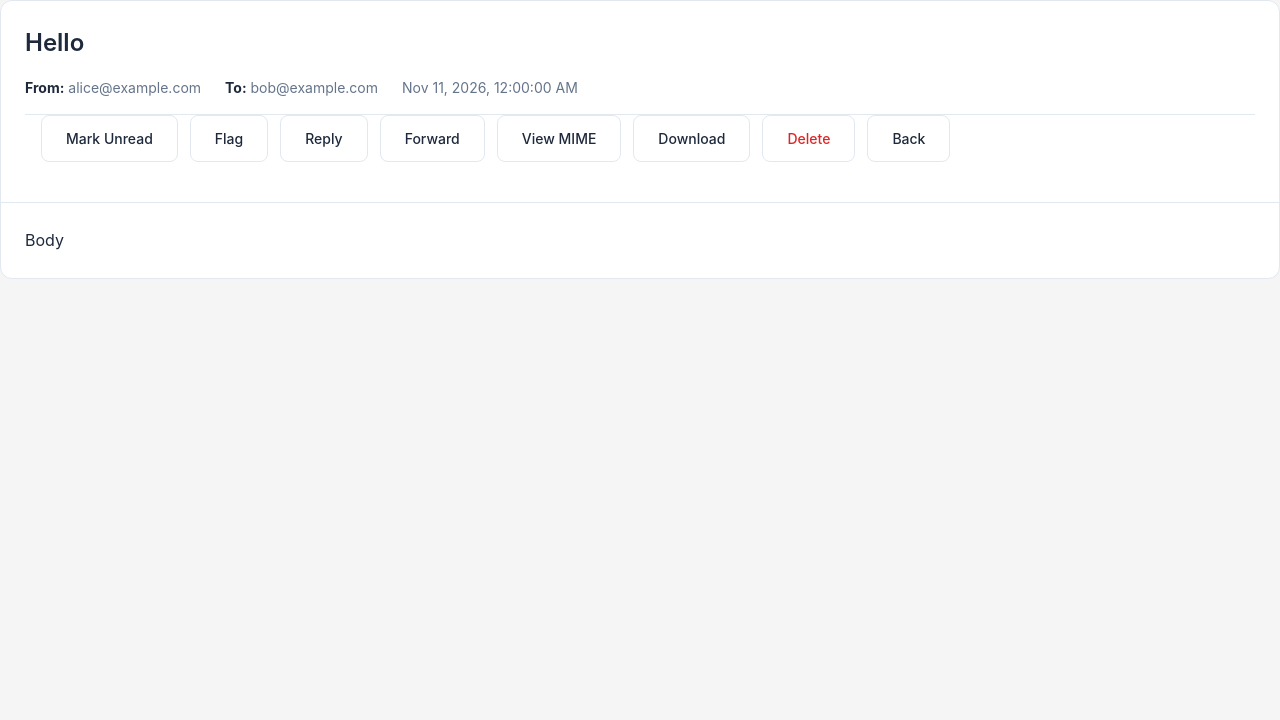
Test case: EmailView raw MIME actions › shows an error when the raw message cannot be loaded
The image size is (1280, 720).
Click the button "View MIME": [559, 138] box [497,115,621,162]
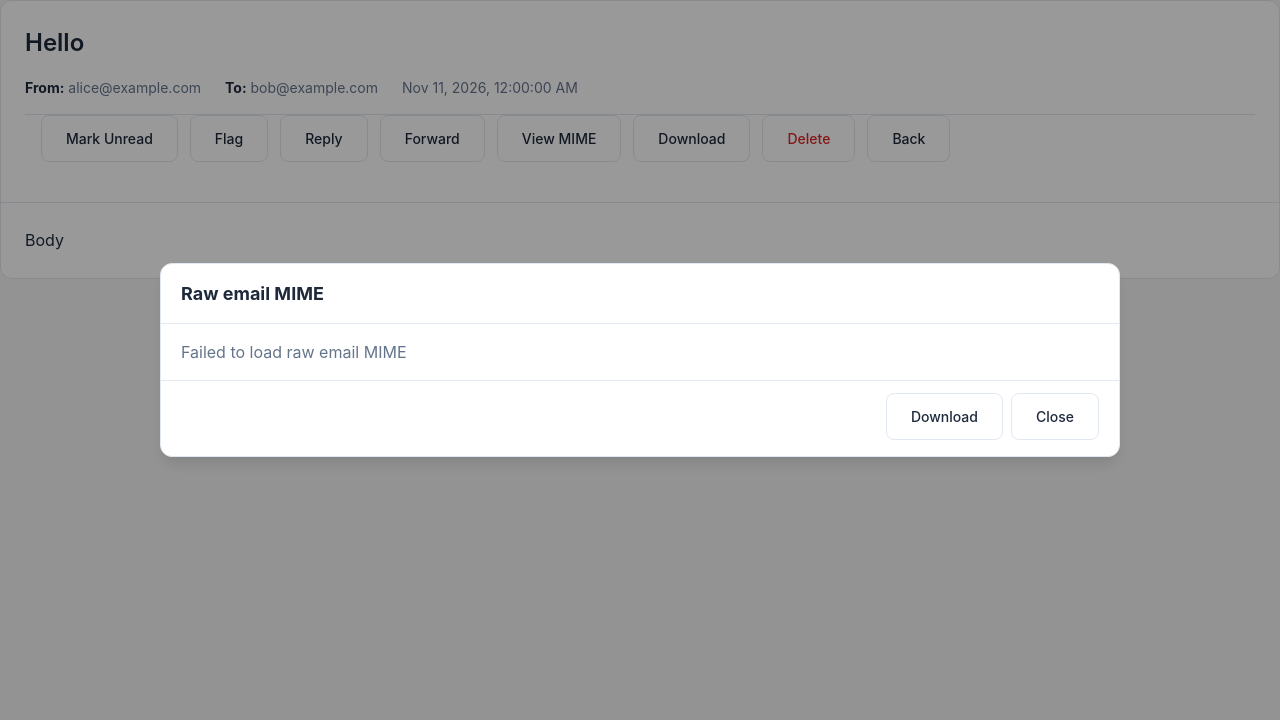
Result: the dialog shows "Failed to load raw email MIME" at [181,342,406,362]
